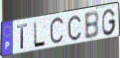B: (83, 10, 100, 41)
C: (49, 15, 65, 48), (67, 14, 82, 42)
G: (101, 8, 117, 37)
L: (33, 21, 47, 49)
T: (16, 23, 29, 51)
